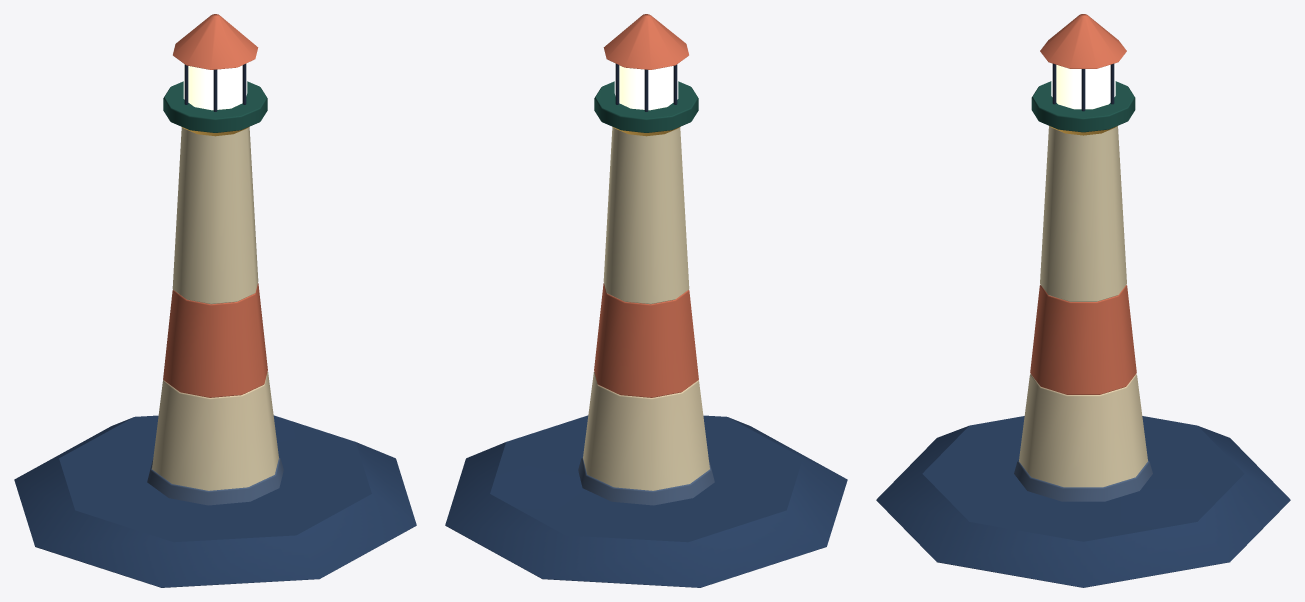
File: lighthouse.glb
3 views of the same model, side by side, from view 1: azimuth 30°, elevation 25°; view 2: azimuth 150°, elevation 25°; view 3: azimuth 270°, elevation 25° (orthographic).
Visible parts, largest first — view 1: lighthouse; view 2: lighthouse; view 3: lighthouse.
Part boxes in pixels (<box>): lighthouse: <box>14,14,416,587</box>; lighthouse: <box>445,14,847,587</box>; lighthouse: <box>876,14,1290,587</box>.
Size of the model in its own units: 10.55 by 13.6 by 10.55.
